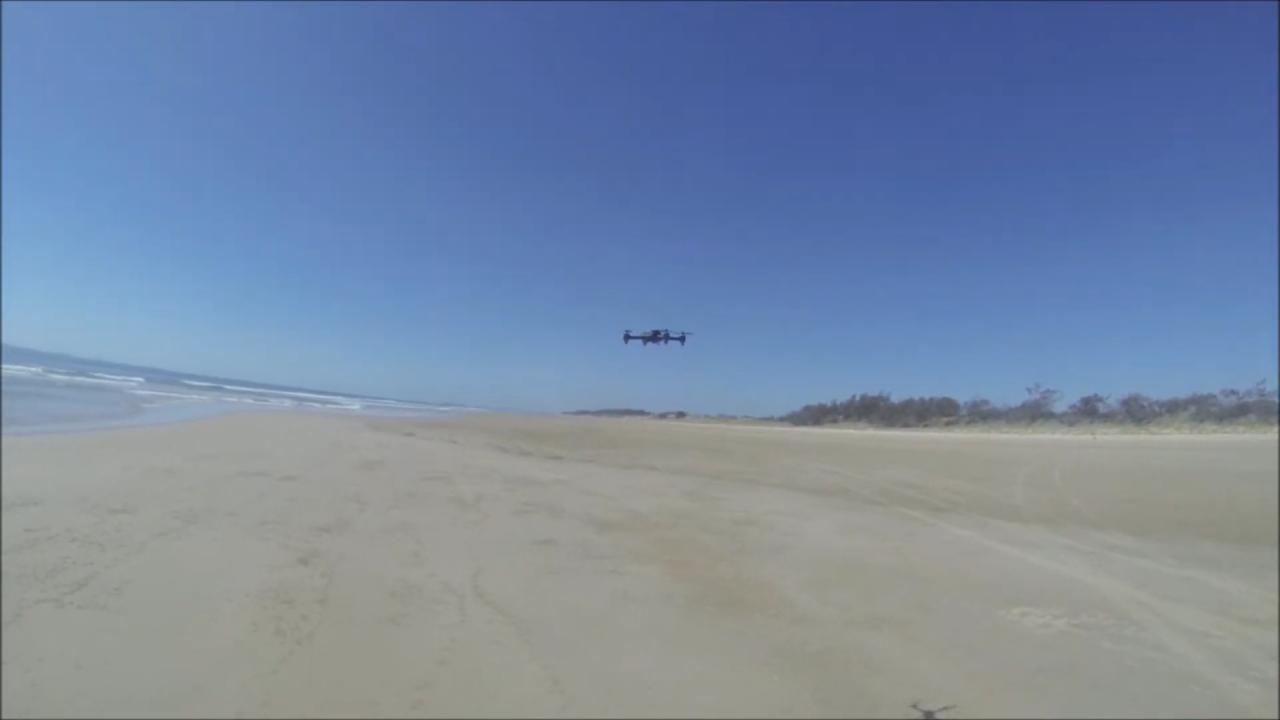Drone: (610, 312, 706, 360)
